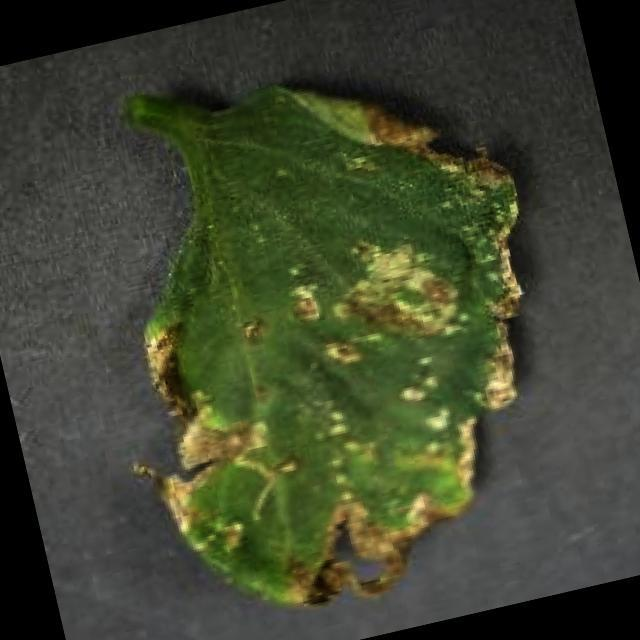Tomato bacterial spot leaf: (39, 4, 617, 640)
